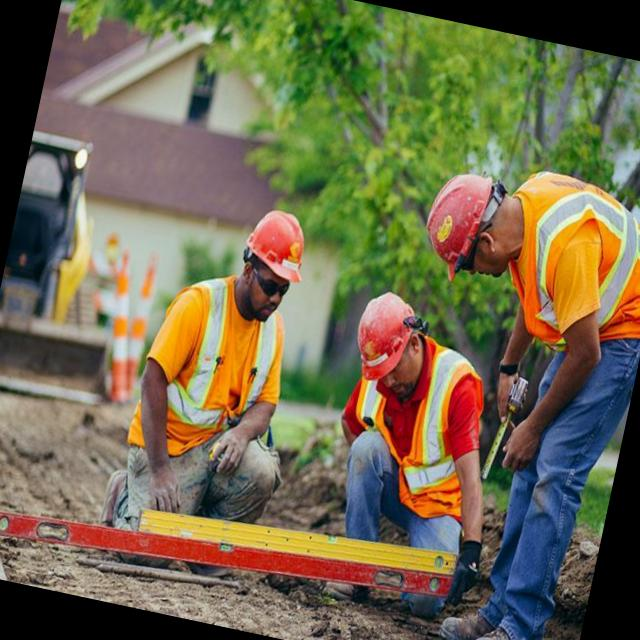goggles: (241, 260, 301, 306)
helmet: (417, 157, 497, 290), (344, 279, 416, 386), (235, 205, 316, 283)
vest: (126, 282, 290, 478), (490, 166, 640, 371), (332, 343, 482, 528)
